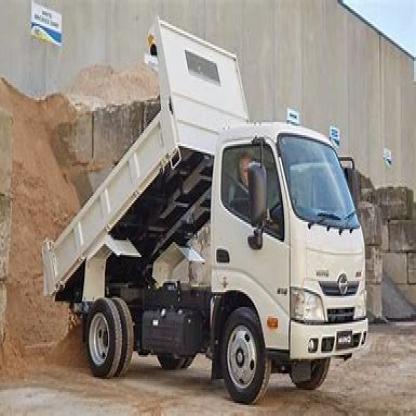dump_truck: (41, 15, 381, 412)
